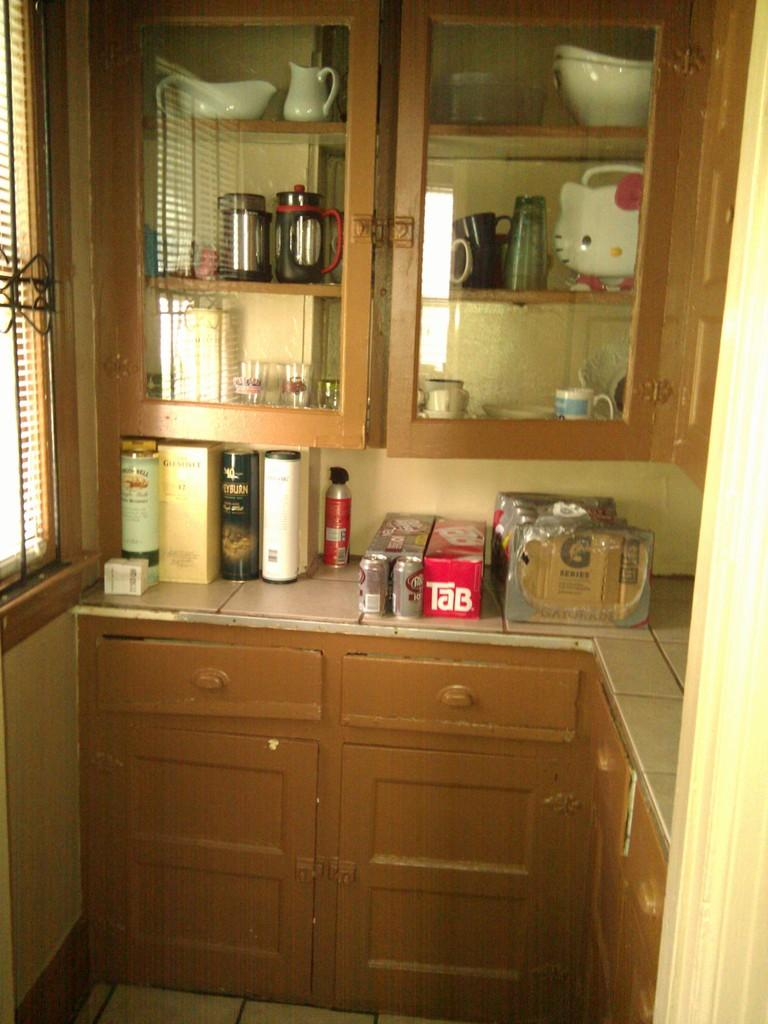cabinet_door: (121, 34, 366, 441), (399, 80, 662, 454), (342, 752, 567, 990), (114, 726, 316, 972), (102, 632, 326, 722), (349, 657, 568, 738), (582, 692, 624, 800), (633, 838, 674, 946)
handle: (591, 728, 614, 781), (640, 869, 659, 930), (195, 664, 227, 698), (442, 682, 474, 716)
